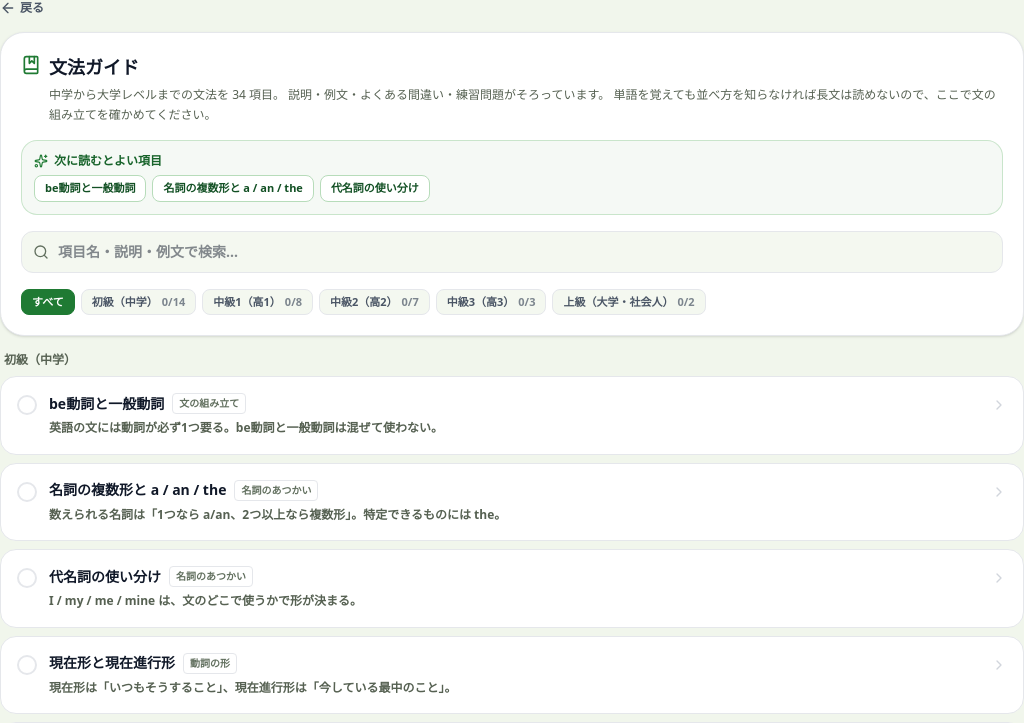
Test case: 目次 › 条件に合う項目が無ければその旨を伝える
Expected: the heading "文法ガイド" is shown, [49,55,139,79]
Type "存在しない項目" into the field named "文法項目を検索".
click(512, 252); type("存在しない項目")  # box [21,230,1003,272]
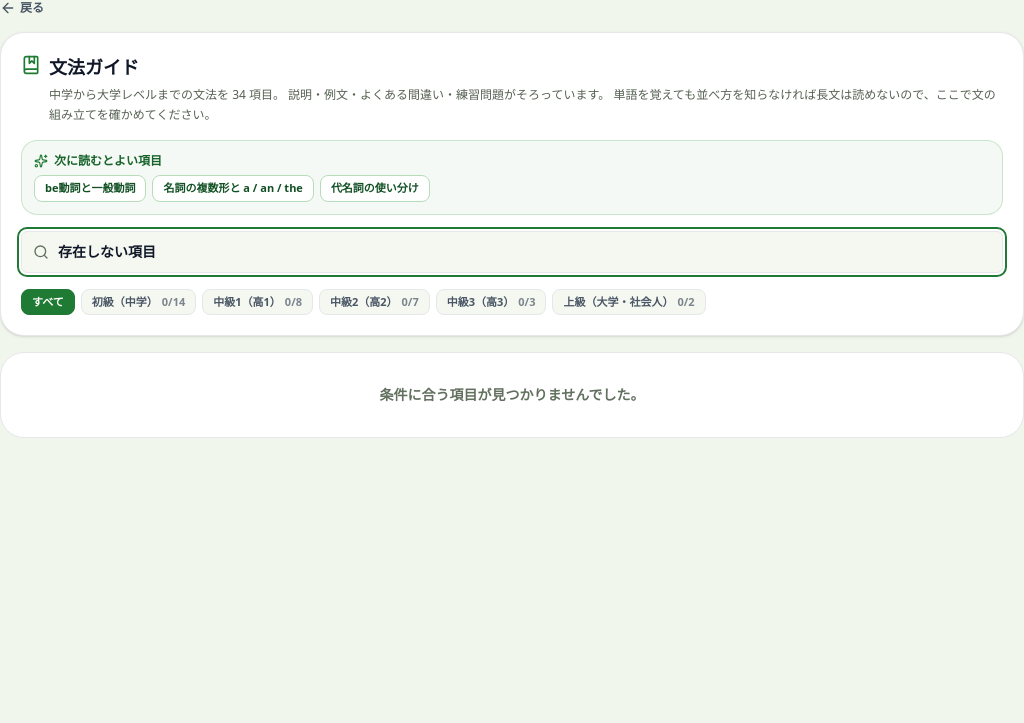
Expected: the text "条件に合う項目が見つかりませんでした。" is shown, [380,385,644,404]
